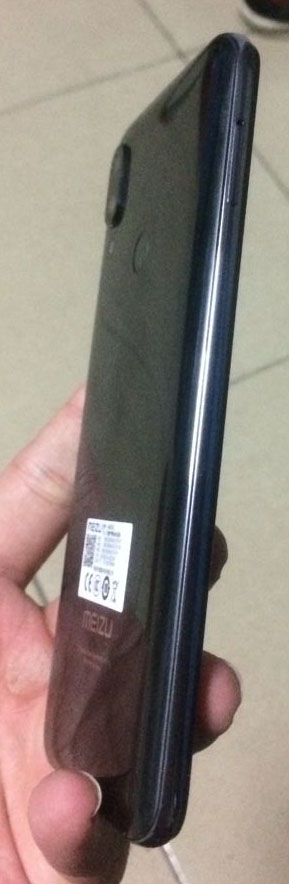phone: (43, 30, 262, 854)
